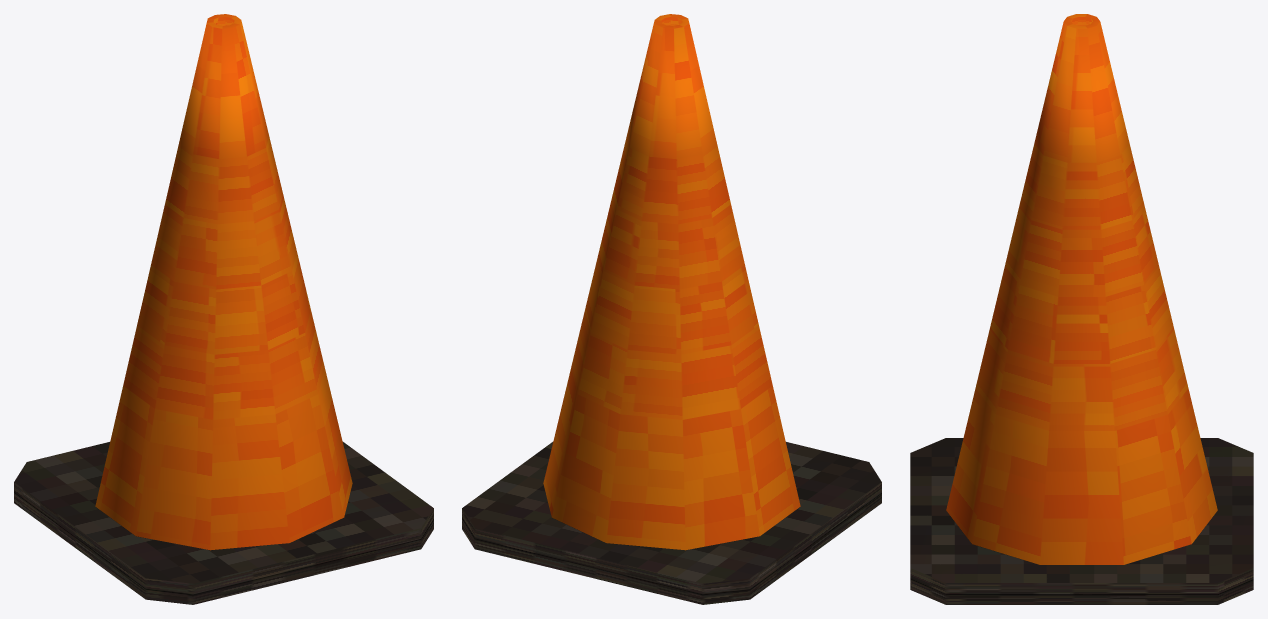
The picture shows the model from 3 angles, left to right: view 1: azimuth 30°, elevation 25°; view 2: azimuth 150°, elevation 25°; view 3: azimuth 270°, elevation 25°; orthographic projection. The views are drawn at different scales.
Visible parts, largest first — view 1: Cube; view 2: Cube; view 3: Cube.
Part boxes in pixels (box(x1,y1,x2,y2)): Cube: box(14, 14, 433, 604); Cube: box(462, 14, 881, 604); Cube: box(910, 14, 1253, 604).
Size of the model in its own units: 2.53 by 4.15 by 2.53.
Materials: 2 (2 with a texture image).
